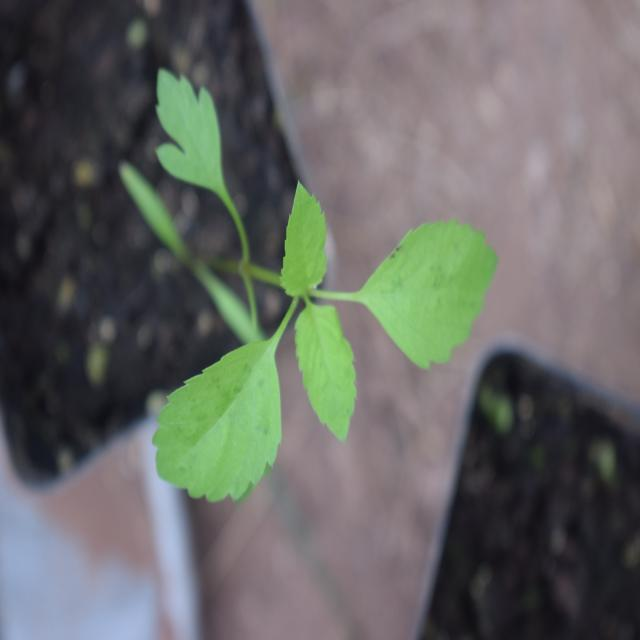Bidens pilosa: (134, 136, 493, 519)
